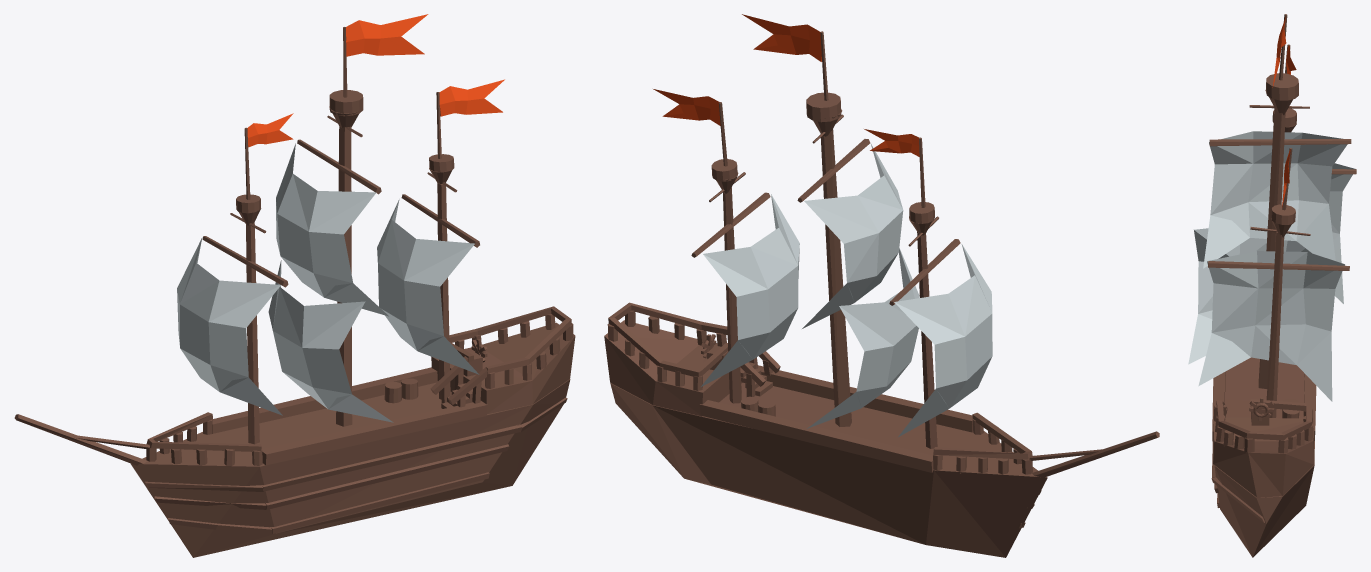
The model's file is ship_big.glb.
The picture shows the model from 3 angles, left to right: view 1: azimuth 30°, elevation 25°; view 2: azimuth 150°, elevation 25°; view 3: azimuth 270°, elevation 25°; orthographic projection. The views are drawn at different scales.
Visible parts, largest first — view 1: group453468901; view 2: group453468901; view 3: group453468901.
Part boxes in pixels (<box>): group453468901: <box>14,14,575,557</box>; group453468901: <box>604,14,1159,557</box>; group453468901: <box>1188,14,1356,557</box>.
Bounding box in the file's own units: 3.65 × 3.15 × 1.01.
